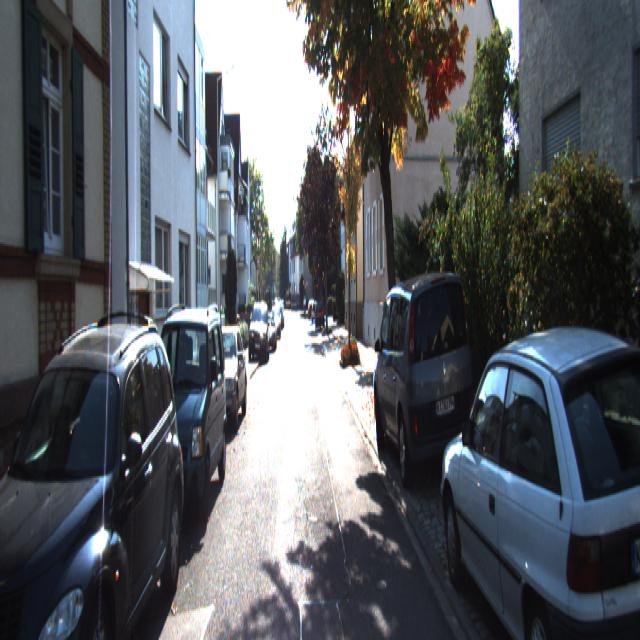Car: (437, 312, 639, 638), (0, 302, 187, 638), (369, 260, 480, 496), (139, 302, 228, 534), (195, 322, 248, 437), (248, 300, 270, 364)
